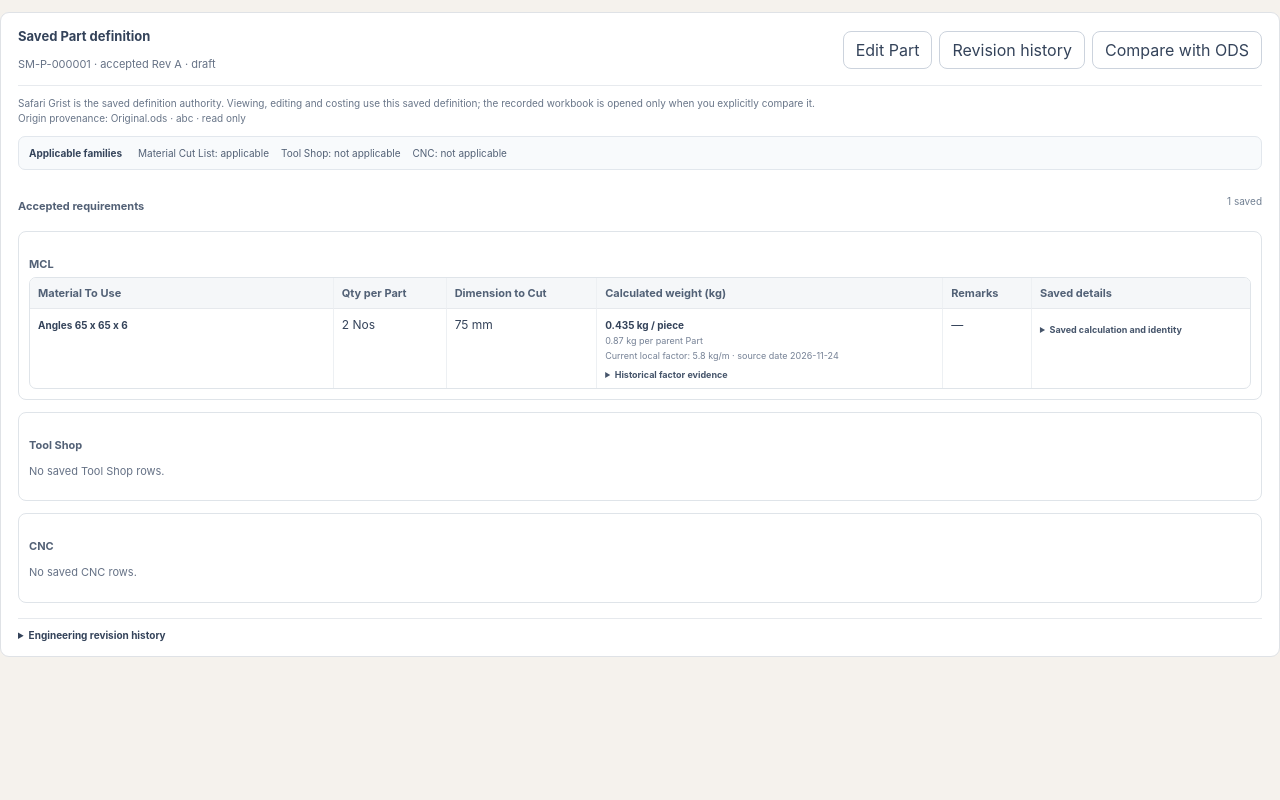
it: opens a normalized known MCL baseline with its material selected and no duplicate-basis prompt
The width and height of the screenshot is (1280, 800).
Expected: the text "0.435 kg / piece" is shown, top-left (605, 318), bottom-right (684, 330)
Expected: the text "0.87 kg per parent Part" is shown, top-left (605, 334), bottom-right (703, 346)
Click the button "Edit Part": click(888, 50) top-left (843, 31), bottom-right (932, 69)
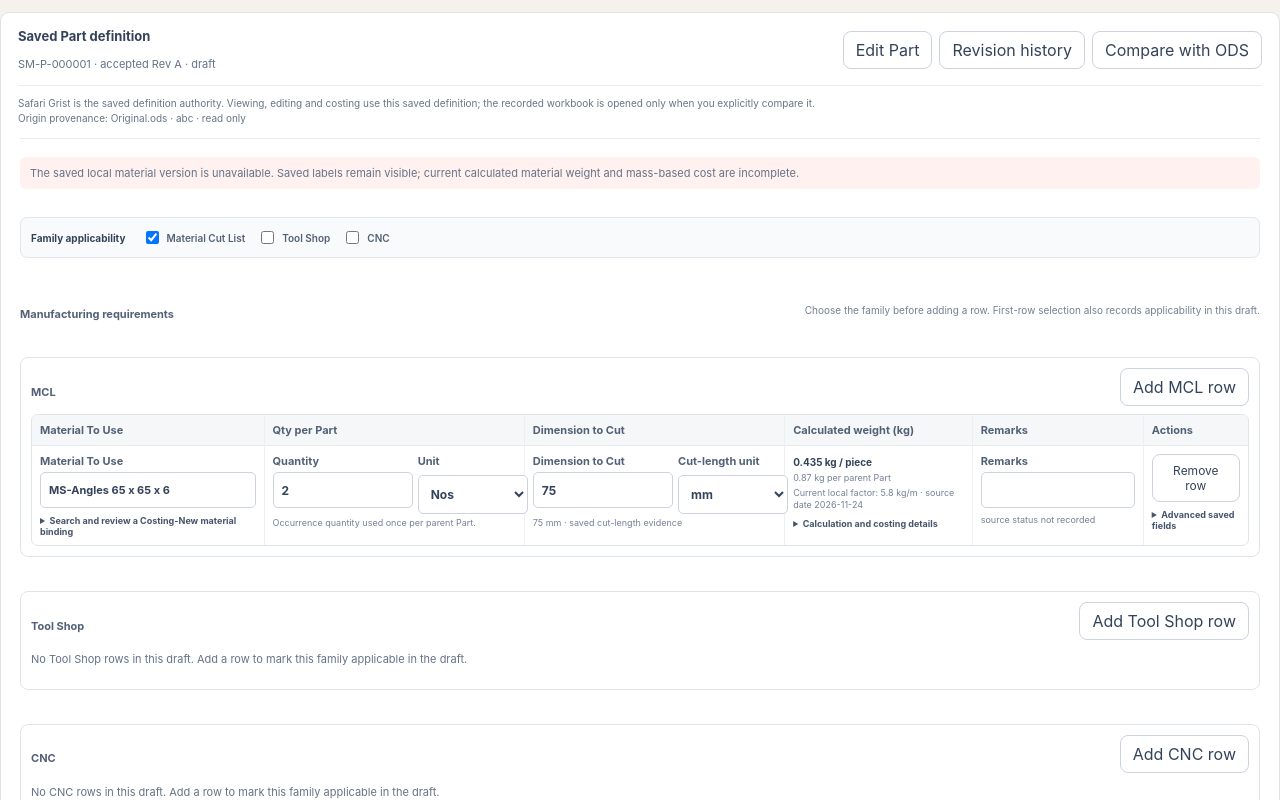
Expected: the dropdown named "Material To Use — MCL row 1" holds "MS-Angles 65 x 65 x 6", top-left (40, 472), bottom-right (256, 508)
